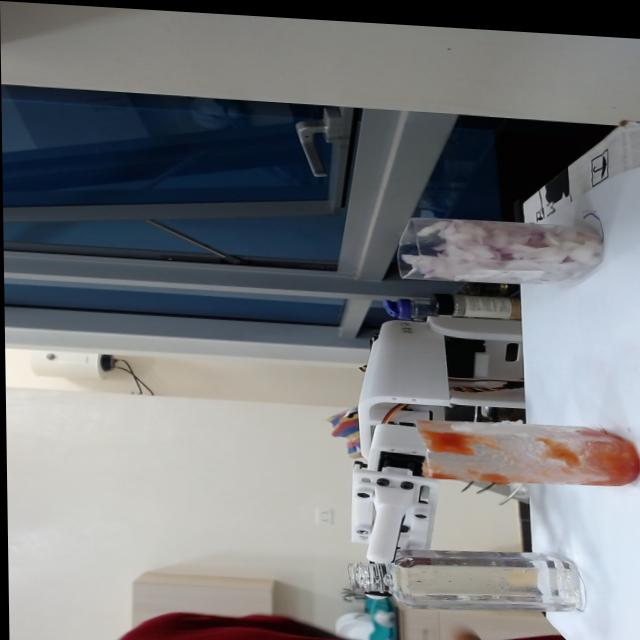blended_tomatoes_pepper: (533, 416, 640, 481)
sliced_onions: (400, 204, 601, 283)
water: (376, 536, 577, 609)
